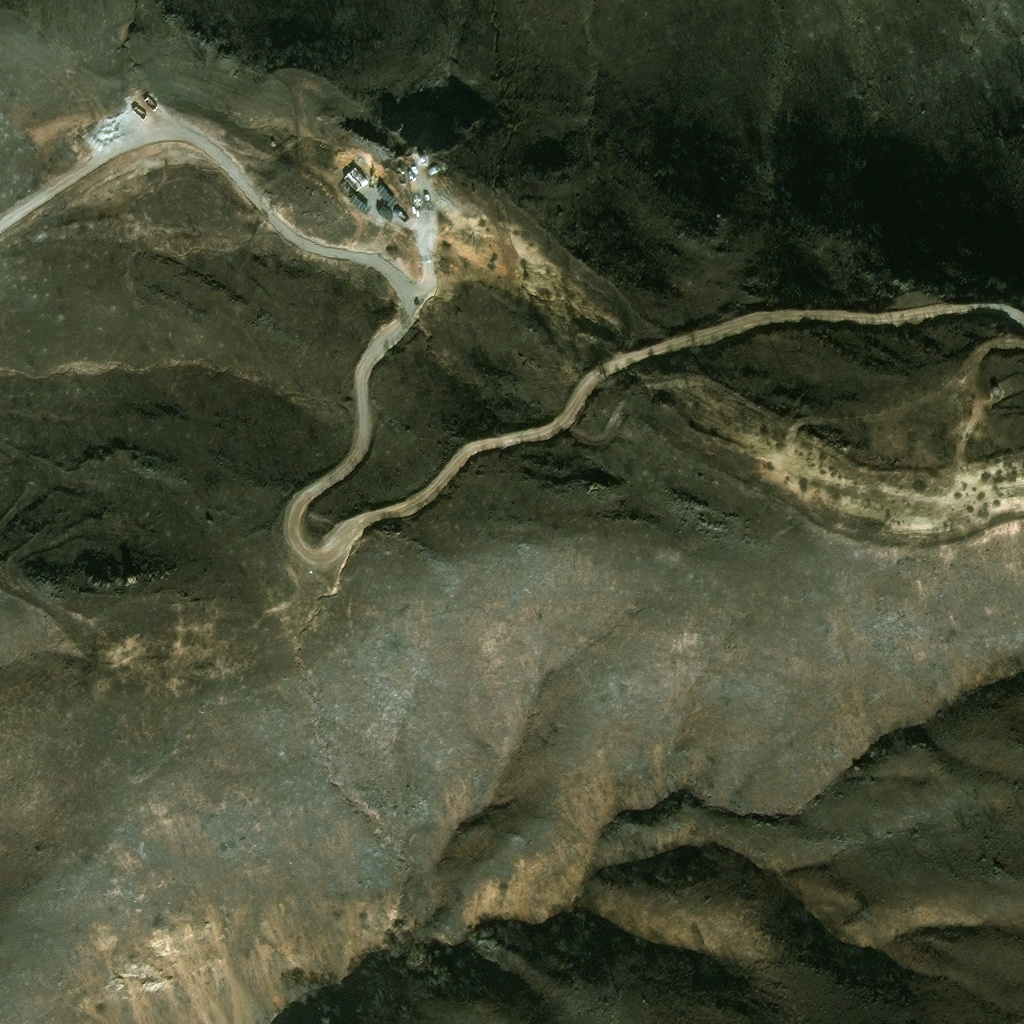0 no-damage: (375, 177, 396, 204), (336, 174, 355, 196), (344, 170, 363, 191), (349, 192, 369, 211), (375, 199, 394, 219), (348, 165, 367, 184), (357, 164, 371, 178), (416, 154, 427, 164)
1 minor-damage: (990, 382, 1000, 393)
